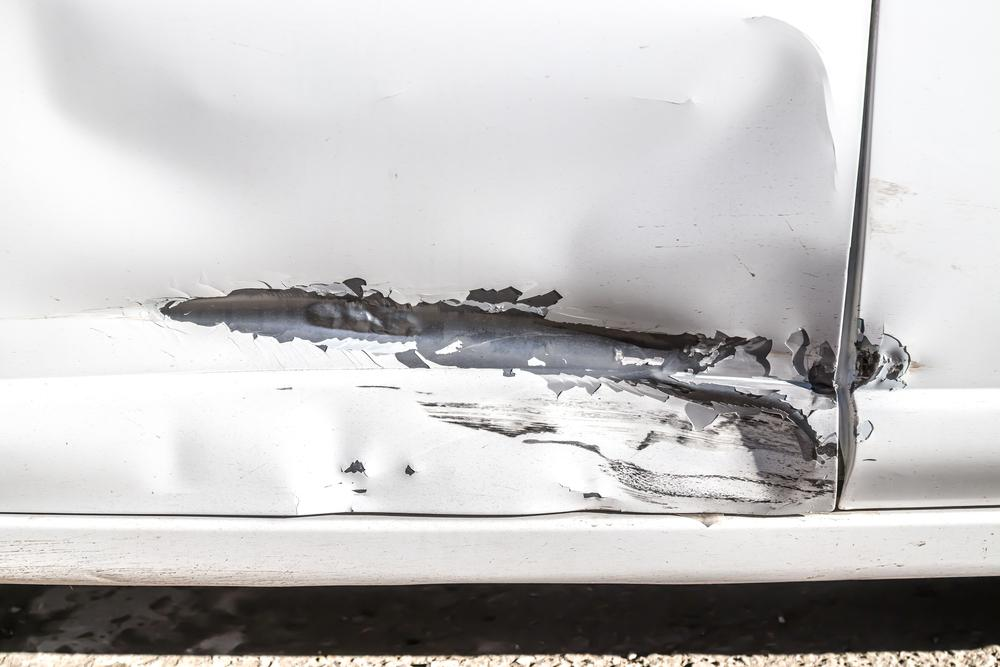dent: (0, 0, 845, 520), (848, 321, 906, 389)
